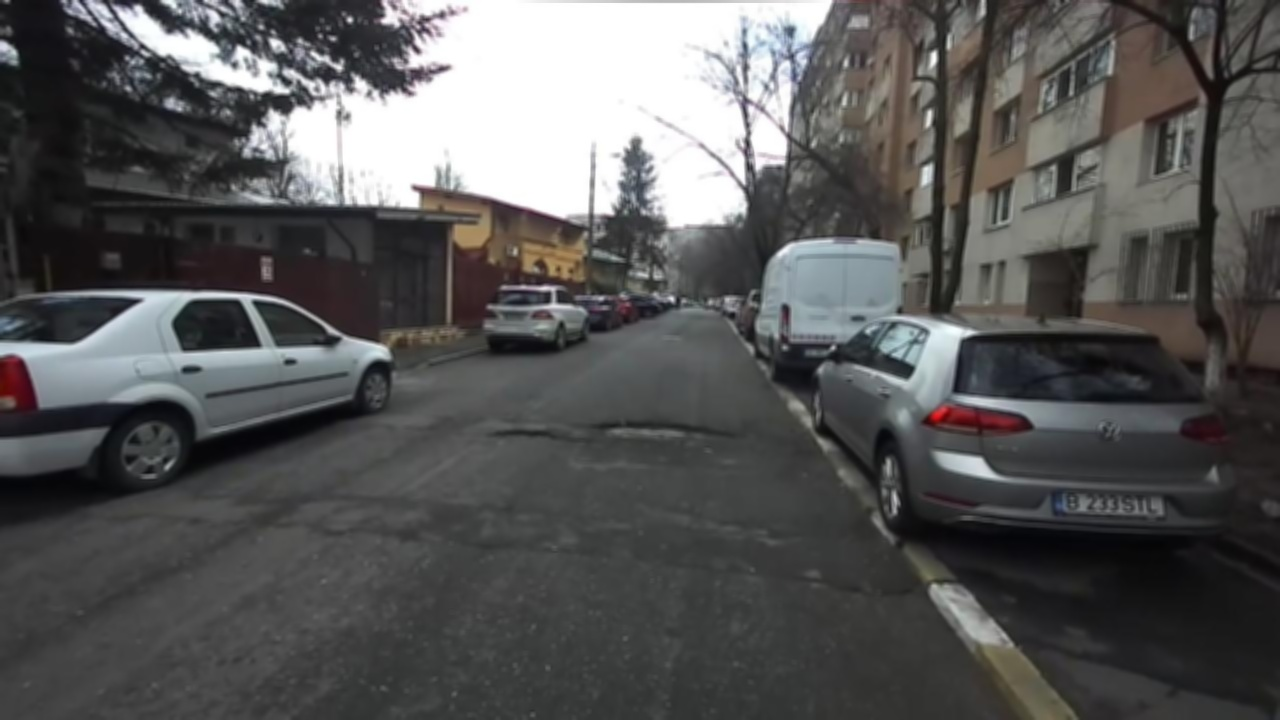pothole: (787, 568, 911, 605), (590, 416, 738, 445), (486, 425, 562, 441), (567, 437, 585, 441)
